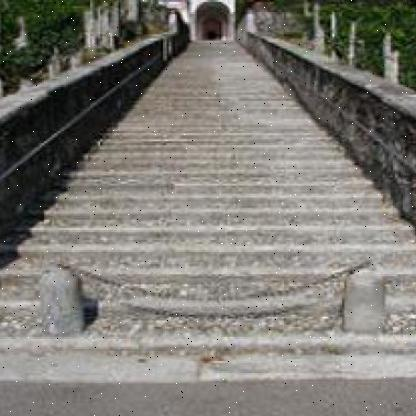stair_down: (16, 207, 375, 382)
